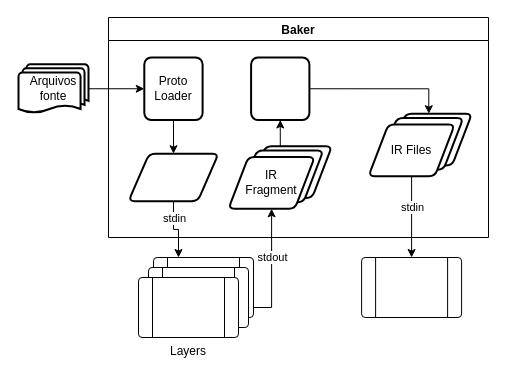
The diagram is 506 pixels wide and 376 high, and some of its shapes have lost their labels. The centre of each missing label's shape, as x and y in pixels:
"Codegen" goes at point (411, 287).
"IR Merger" goes at point (280, 88).
"Package Graph" goes at point (173, 177).
